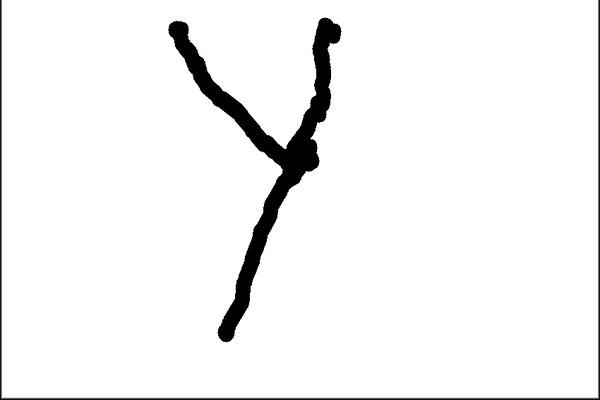Y: (158, 13, 359, 359)
